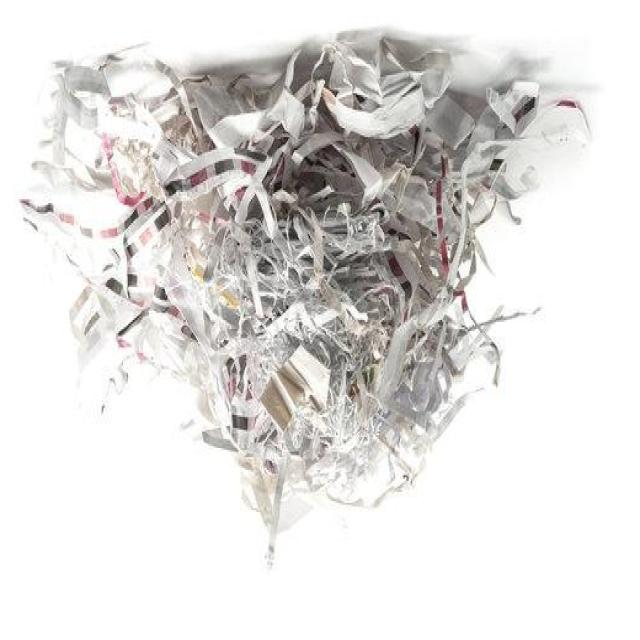kertas: (18, 35, 587, 574)
